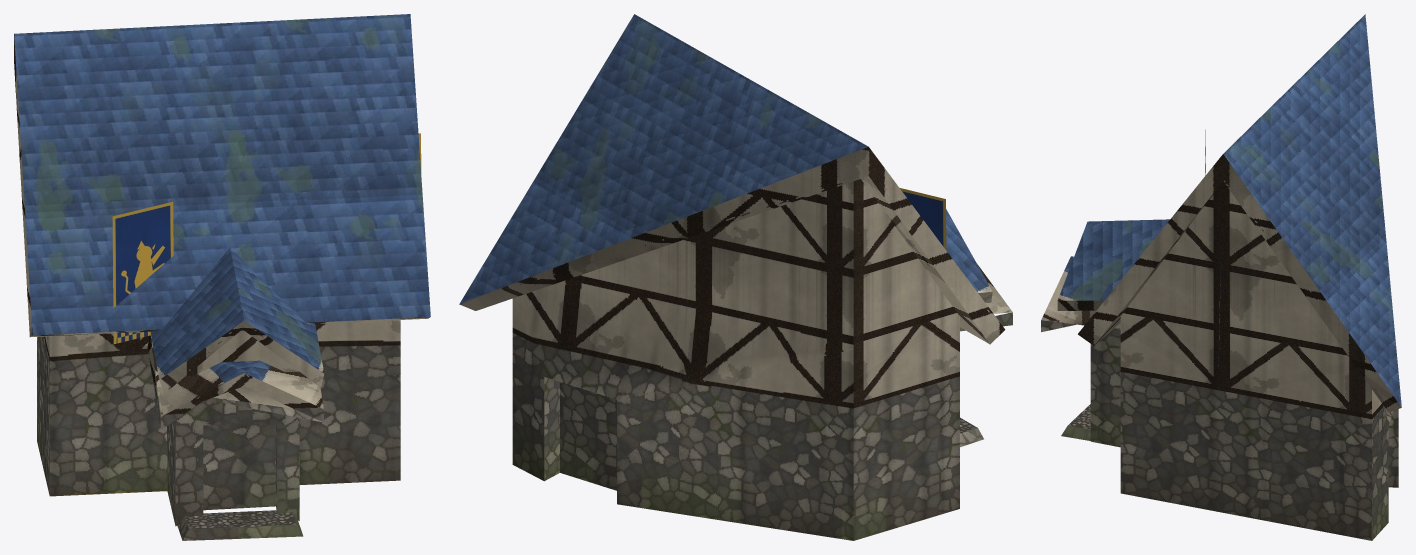
The model's file is house_14_card.glb.
3 views of the same model, side by side, from view 1: azimuth 30°, elevation 25°; view 2: azimuth 150°, elevation 25°; view 3: azimuth 270°, elevation 25° (orthographic). The views are drawn at different scales.
Parts seen in each view (by area): view 1: house_14_game_card; view 2: house_14_game_card; view 3: house_14_game_card.
Part boxes in pixels (<box>): house_14_game_card: <box>14,14,430,540</box>; house_14_game_card: <box>459,14,1012,540</box>; house_14_game_card: <box>1041,14,1401,540</box>.
Size of the model in its own units: 10.55 by 9.01 by 7.98.
1 material, 1 textured.
